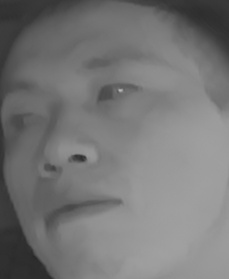eye: (94, 76, 146, 110), (1, 106, 50, 141)
mouth: (37, 185, 126, 237)
